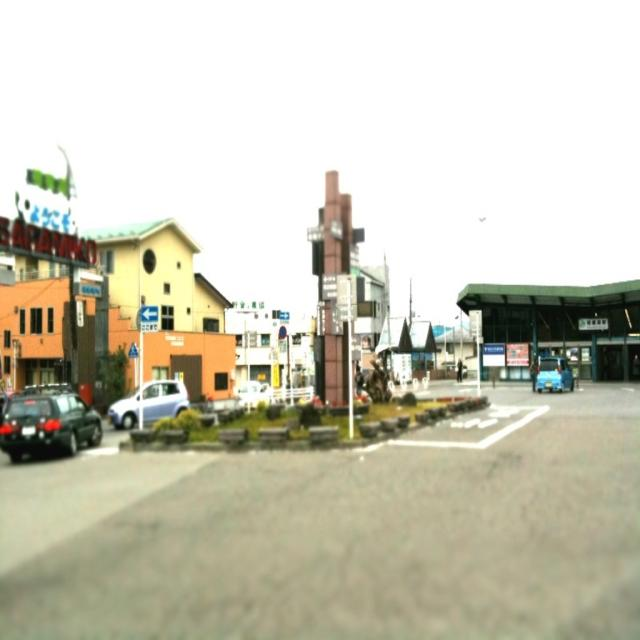car: (536, 355, 575, 393)
